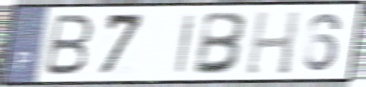6: (303, 11, 343, 73)
7: (95, 12, 147, 77)
B: (191, 11, 250, 77), (41, 13, 96, 78)
H: (243, 9, 303, 77)
I: (173, 13, 198, 76)
